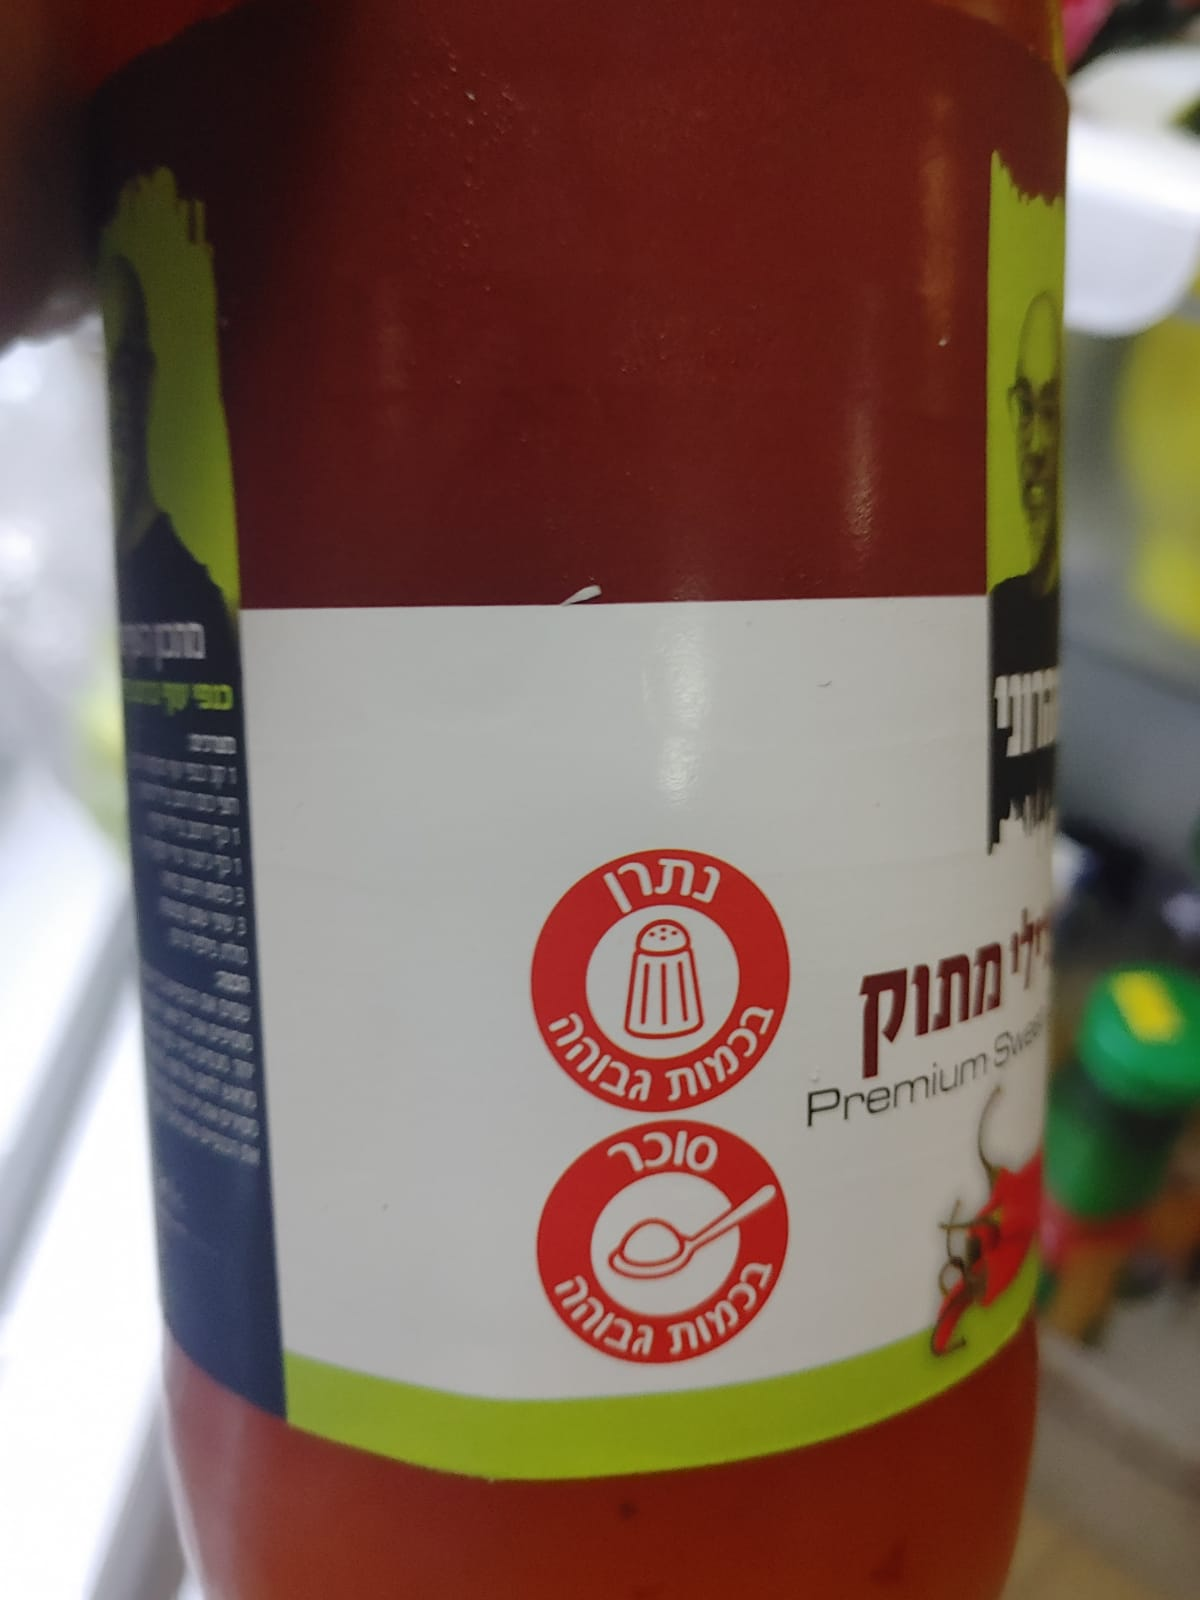salt: (527, 845, 797, 1116)
sugar: (536, 1121, 795, 1369)
